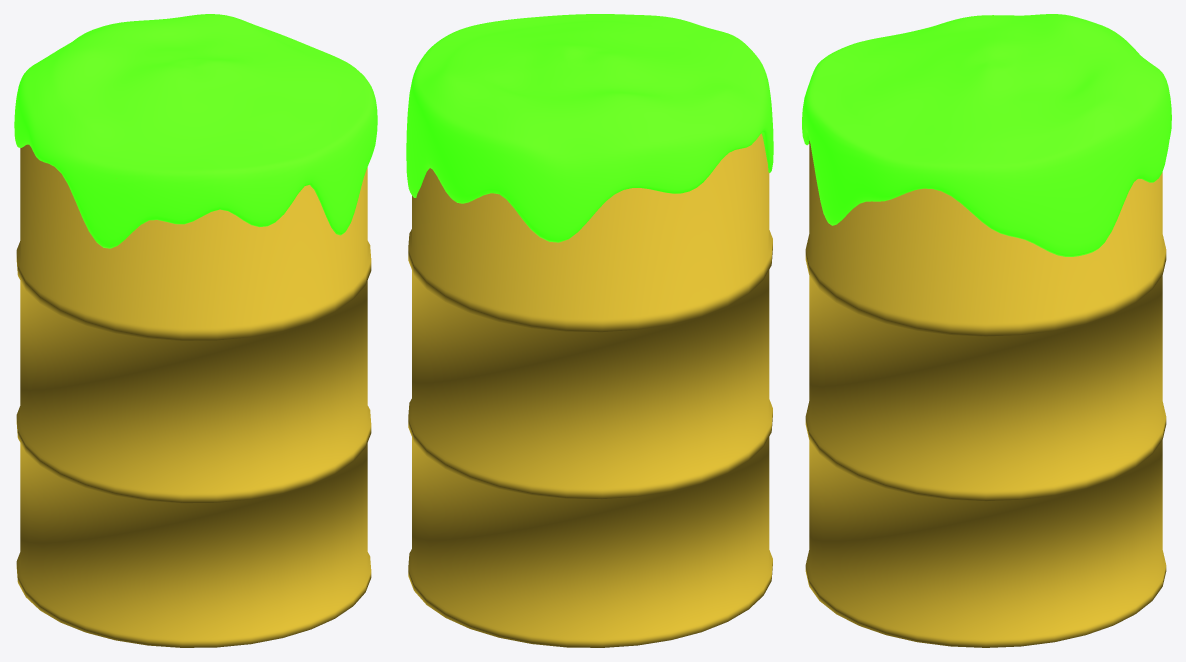
Rendered from ToxicBarrel.fbx.
3 renders of one model, left to right at view 1: azimuth 30°, elevation 25°; view 2: azimuth 150°, elevation 25°; view 3: azimuth 270°, elevation 25°, orthographic. The views are drawn at different scales.
Visible parts, largest first — view 1: Barrel, Goo; view 2: Barrel, Goo; view 3: Barrel, Goo.
Boxes of the visible parts, x1,y1,x2,y2 form: Barrel: (16, 144, 371, 647); Goo: (14, 14, 377, 248); Barrel: (408, 133, 772, 647); Goo: (406, 14, 773, 242); Barrel: (805, 141, 1166, 647); Goo: (802, 14, 1171, 256).
Size of the model in its own units: 210 by 322 by 209.
